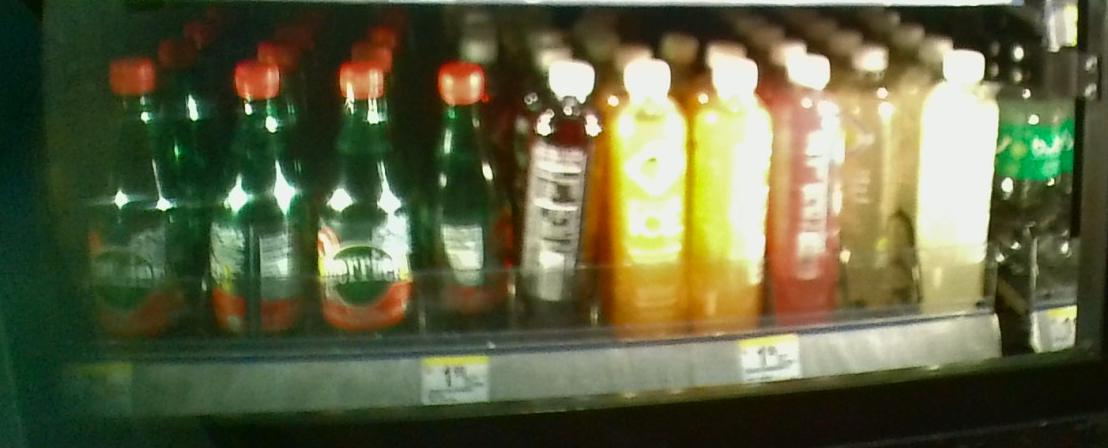bottle: (418, 58, 515, 346), (208, 50, 305, 334), (316, 56, 411, 344), (89, 51, 185, 332), (917, 46, 1003, 322), (524, 55, 603, 340), (694, 51, 772, 333), (612, 52, 688, 334), (775, 53, 844, 334), (849, 45, 908, 315)
